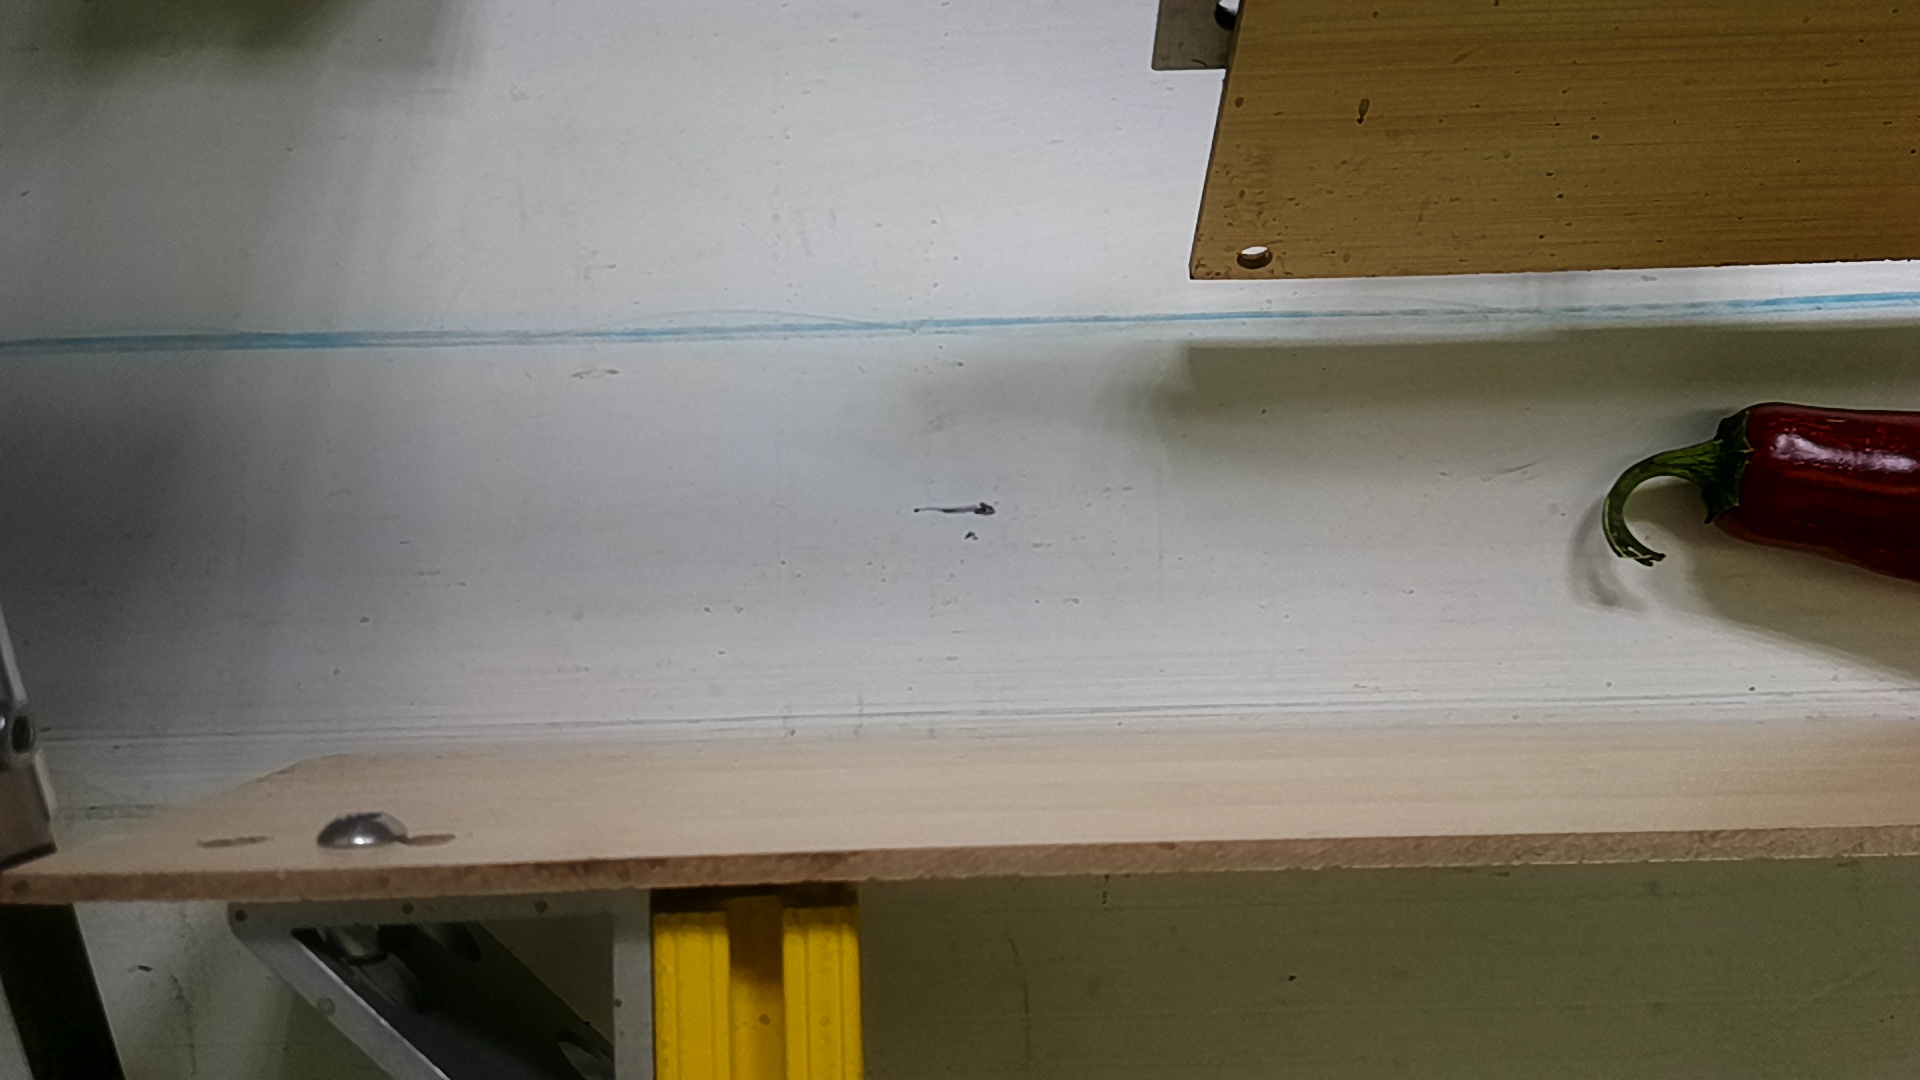Cut Point: (1698, 393, 1785, 551)
